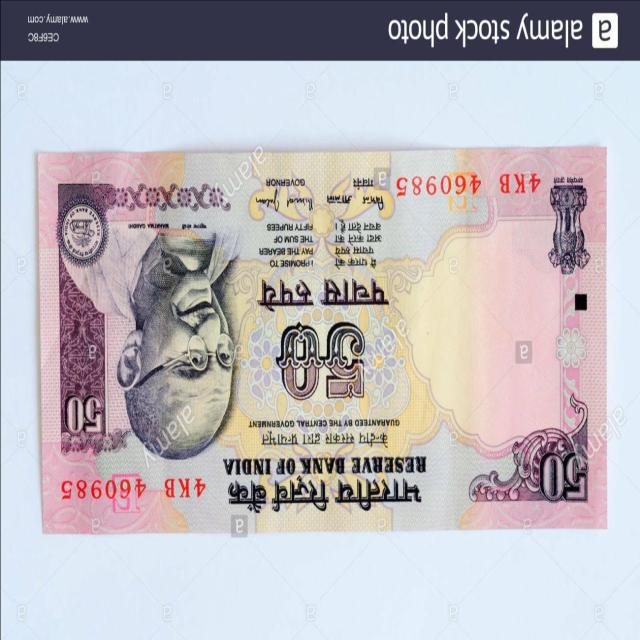50IndianRupees: (41, 152, 604, 528)
